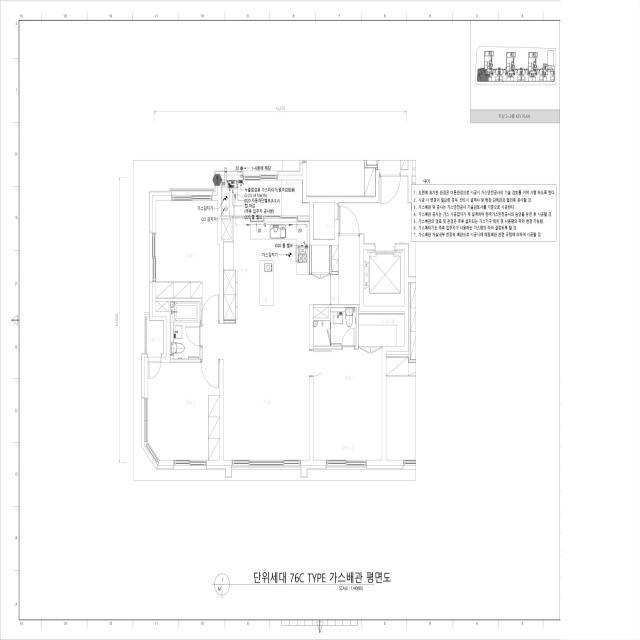space_balconi: (221, 180, 309, 216), (147, 317, 166, 357)
space_bedroom: (313, 349, 382, 460), (156, 201, 220, 320), (148, 363, 220, 460)
space_dressroom: (358, 307, 404, 346)
space_elevator: (364, 250, 405, 306)
space_elevator_hall: (338, 175, 416, 277)
space_front: (332, 235, 360, 305)
space_kitchen: (223, 219, 329, 323)
space_living_room: (202, 323, 309, 460)
space_other: (313, 202, 335, 240), (312, 245, 329, 273), (221, 219, 231, 239), (313, 307, 329, 318), (156, 301, 168, 311)
space_toilet: (170, 301, 200, 360), (313, 307, 356, 347)
